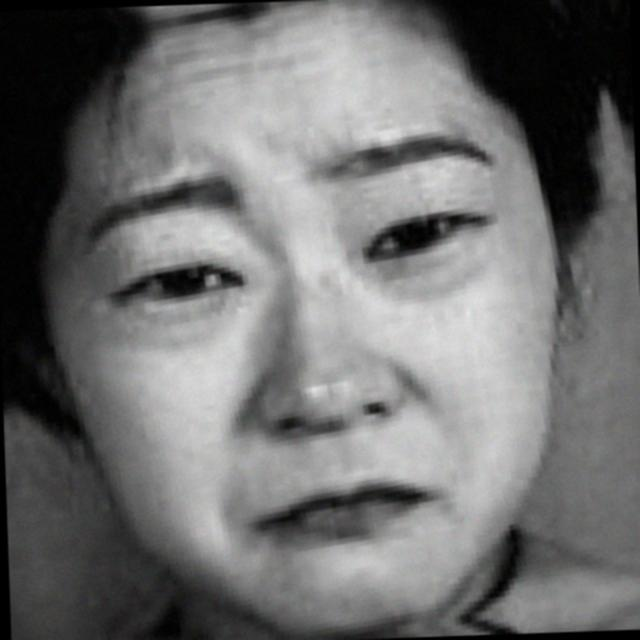sad: (66, 93, 566, 632)
